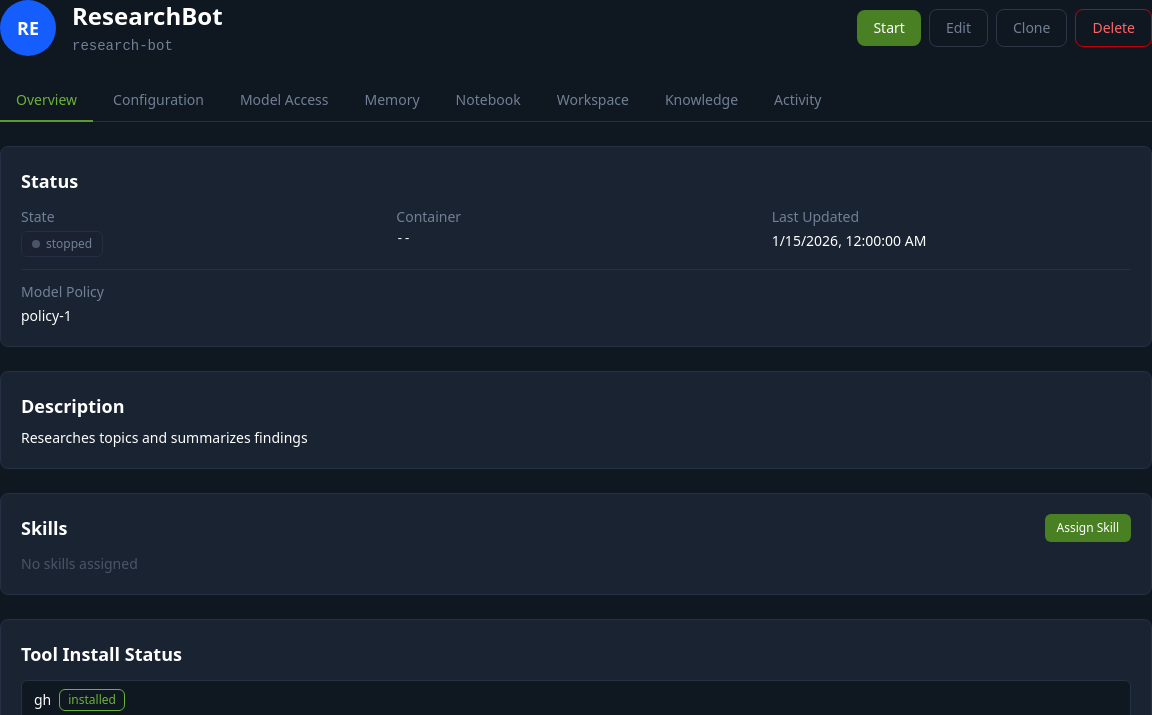
AgentDetailClient › clicking Configuration tab shows skills runtime summary
expect the heading "ResearchBot" is shown: met, box [72,0,223,32]
# Click Configuration tab
Click the button "Configuration" at [158, 101], box [97,80,220,122]
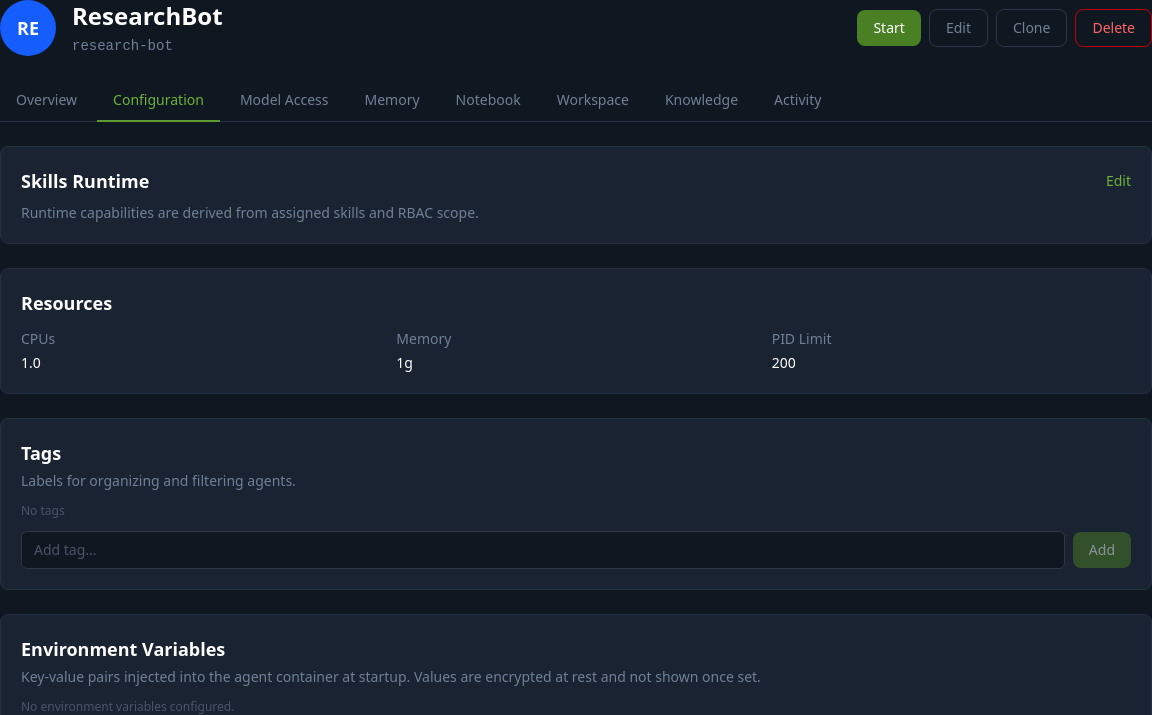
expect the heading "Skills Runtime" is shown: met, box [21,167,149,195]
